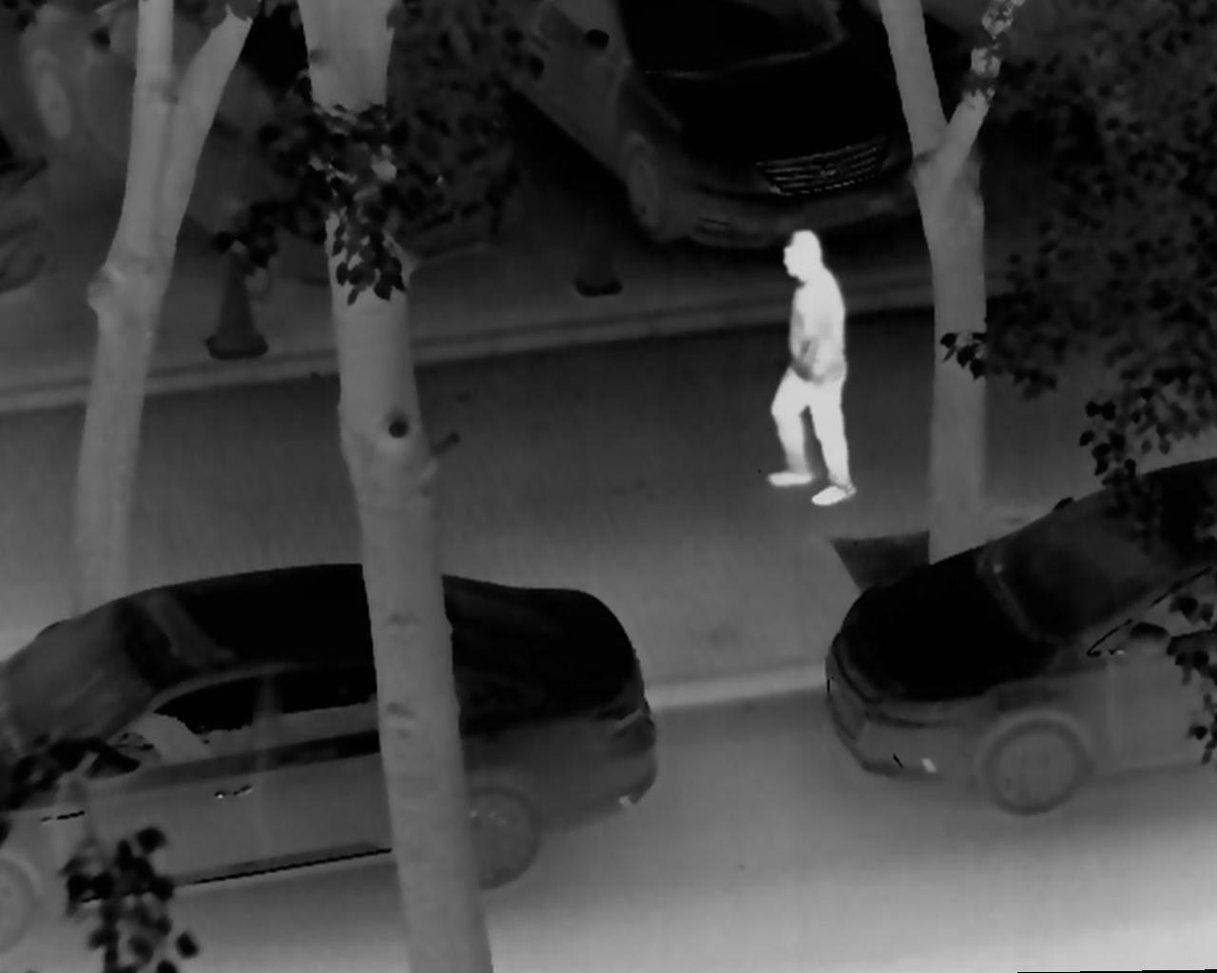person: (754, 224, 861, 516)
